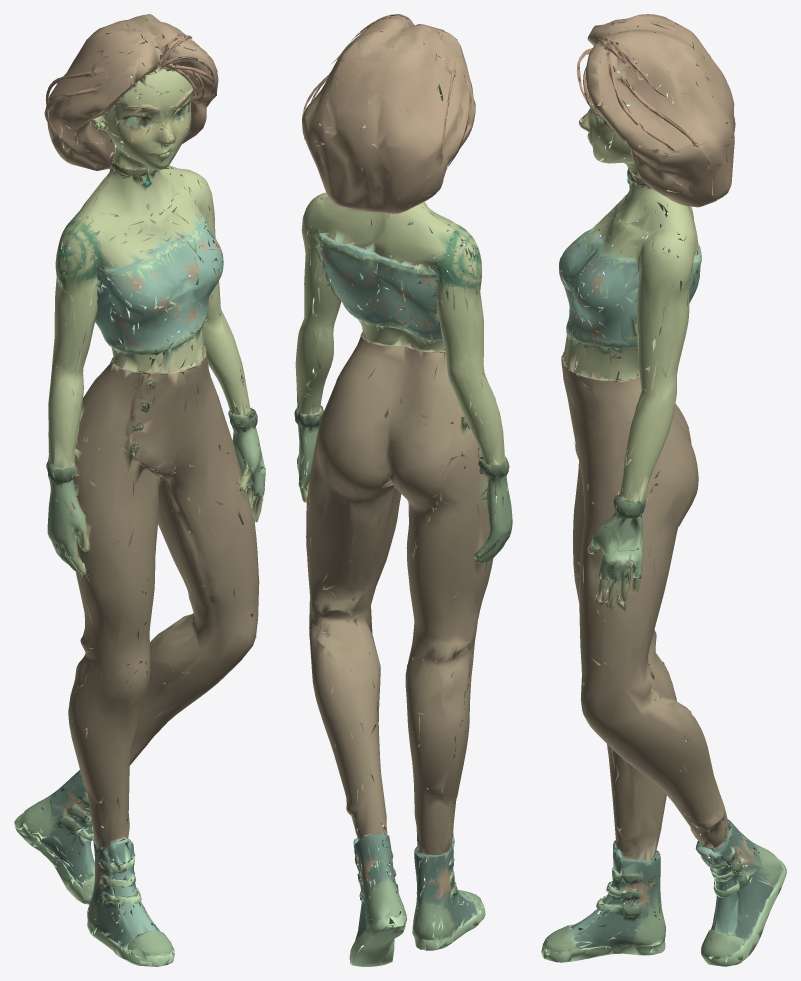
File: dancer.lod.glb
3 views of the same model, side by side, from view 1: azimuth 30°, elevation 25°; view 2: azimuth 150°, elevation 25°; view 3: azimuth 270°, elevation 25° (orthographic). The views are drawn at different scales.
Visible parts, largest first — view 1: Merged_Extract6; view 2: Merged_Extract6; view 3: Merged_Extract6.
Part boxes in pixels (bbox=[...]): Merged_Extract6: bbox=[14, 14, 265, 966]; Merged_Extract6: bbox=[294, 14, 512, 966]; Merged_Extract6: bbox=[541, 14, 786, 966].
Bounding box in the file's own units: 0.4001 × 1.64 × 0.3852.
